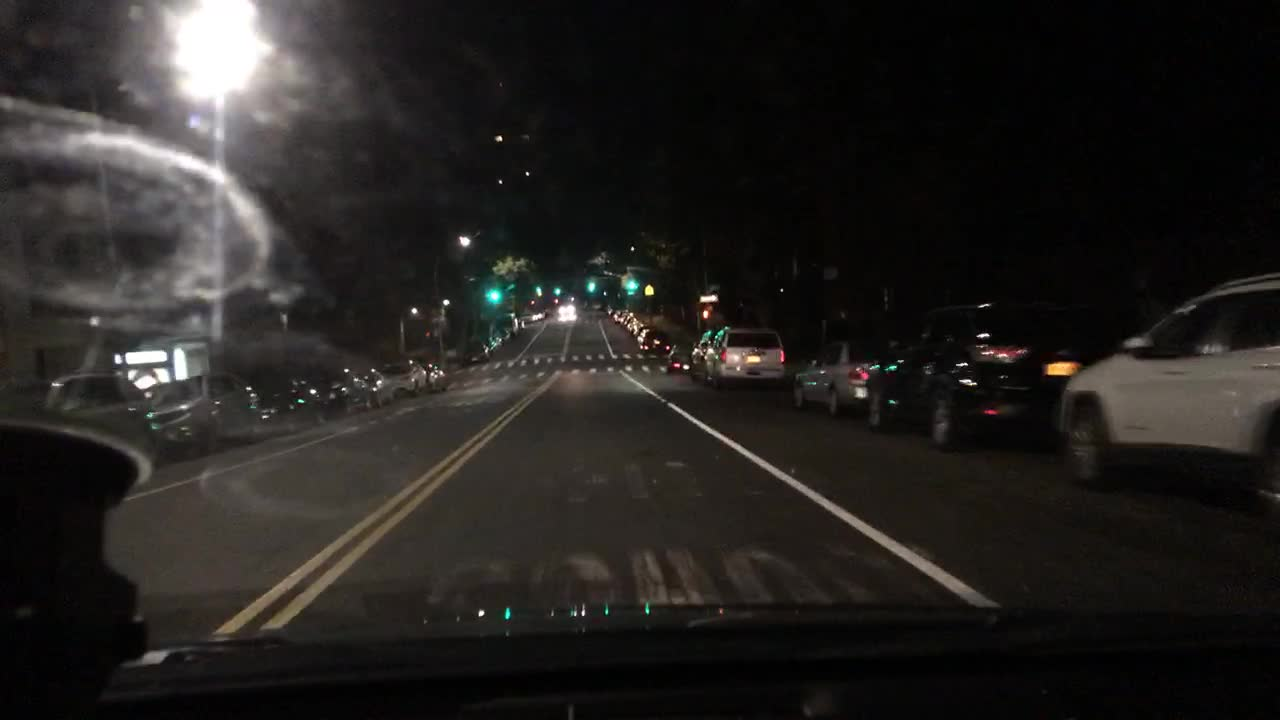car: (1056, 270, 1278, 509), (863, 297, 1091, 448), (43, 367, 214, 460), (164, 375, 270, 443), (791, 337, 880, 417), (702, 326, 785, 385), (268, 375, 325, 432), (314, 367, 373, 414), (381, 359, 426, 394), (359, 368, 391, 407), (691, 329, 715, 381), (664, 340, 693, 374), (636, 326, 671, 352), (419, 362, 448, 393), (460, 341, 489, 364), (497, 316, 518, 335), (557, 303, 577, 320), (486, 335, 500, 351), (626, 318, 642, 332), (583, 300, 601, 311), (629, 323, 645, 335), (519, 312, 538, 322), (611, 308, 625, 321), (495, 328, 510, 340), (618, 312, 632, 324), (605, 304, 615, 315), (536, 309, 547, 318), (517, 318, 526, 329), (623, 315, 632, 325)
traffic light: (623, 278, 637, 291), (487, 289, 501, 301), (587, 280, 595, 291), (534, 285, 543, 293), (701, 309, 709, 318), (555, 287, 560, 294)
traffic sign: (698, 293, 717, 301), (645, 283, 654, 295)
